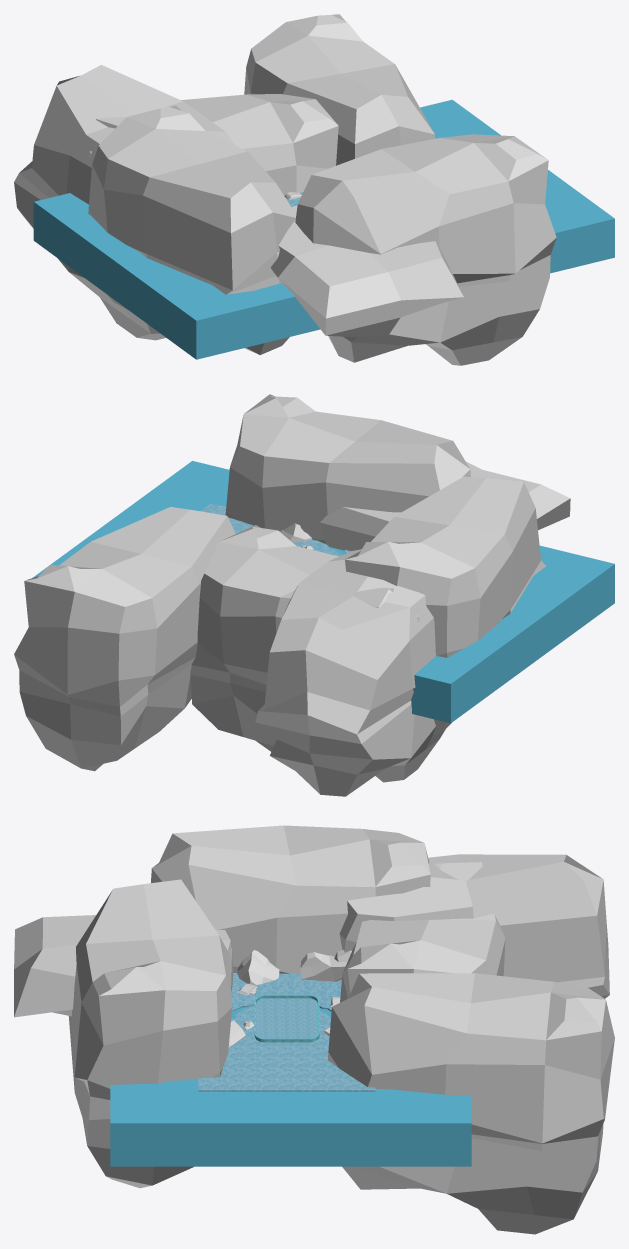
The model's file is Ice Arena.fbx.
3 views of the same model, one above another, from view 1: azimuth 30°, elevation 25°; view 2: azimuth 150°, elevation 25°; view 3: azimuth 270°, elevation 25° (orthographic). The views are drawn at different scales.
Visible parts, largest first — view 1: iceberg_inviorment.014, iceberg_inviorment.012, Water, iceberg_inviorment.010, iceberg_inviorment.013, iceberg_inviorment.011, iceberg_inviorment.009; view 2: iceberg_inviorment.010, iceberg_inviorment.011, iceberg_inviorment.014, iceberg_inviorment.012, Water, iceberg_inviorment.009, iceberg_inviorment.013, BG.001; view 3: iceberg_inviorment.010, iceberg_inviorment.014, Water, iceberg_inviorment.012, iceberg_inviorment.011, iceberg_inviorment.009, BG.001, iceberg_inviorment.013, Arena.001, iceberg_inviorment.015, iceberg_inviorment.004, Arena.002.
Boxes of the visible parts, x1=… form: iceberg_inviorment.014: x1=295, y1=134, x2=556, y2=365; iceberg_inviorment.012: x1=88, y1=105, x2=296, y2=354; Water: x1=33, y1=99, x2=614, y2=359; iceberg_inviorment.010: x1=244, y1=14, x2=435, y2=165; iceberg_inviorment.013: x1=270, y1=205, x2=463, y2=336; iceberg_inviorment.011: x1=14, y1=65, x2=234, y2=340; iceberg_inviorment.009: x1=89, y1=94, x2=338, y2=195; iceberg_inviorment.010: x1=14, y1=507, x2=235, y2=771; iceberg_inviorment.011: x1=255, y1=549, x2=445, y2=796; iceberg_inviorment.014: x1=225, y1=394, x2=470, y2=543; iceberg_inviorment.012: x1=345, y1=476, x2=545, y2=735; Water: x1=32, y1=461, x2=614, y2=723; iceberg_inviorment.009: x1=190, y1=525, x2=419, y2=751; iceberg_inviorment.013: x1=320, y1=461, x2=570, y2=551; BG.001: x1=200, y1=503, x2=350, y2=556; iceberg_inviorment.010: x1=327, y1=973, x2=614, y2=1234; iceberg_inviorment.014: x1=68, y1=879, x2=232, y2=1188; Water: x1=110, y1=1005, x2=471, y2=1166; iceberg_inviorment.012: x1=151, y1=825, x2=430, y2=973; iceberg_inviorment.011: x1=339, y1=854, x2=609, y2=998; iceberg_inviorment.009: x1=340, y1=862, x2=505, y2=1002; BG.001: x1=198, y1=973, x2=375, y2=1091; iceberg_inviorment.013: x1=14, y1=915, x2=233, y2=1017; Arena.001: x1=256, y1=998, x2=317, y2=1038; iceberg_inviorment.015: x1=300, y1=950, x2=351, y2=982; iceberg_inviorment.004: x1=237, y1=950, x2=279, y2=985; Arena.002: x1=254, y1=994, x2=319, y2=1042.
Size of the model in its own units: 11963 by 6530 by 13377.
5 materials, 3 textured.
